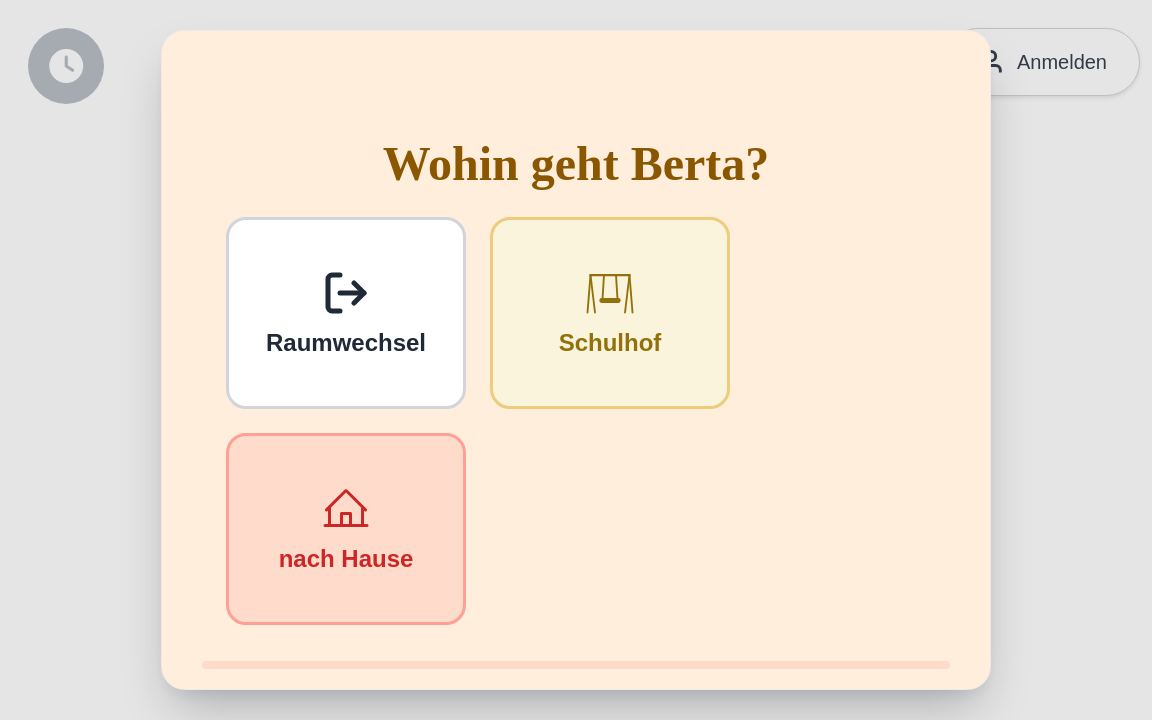
Test: ActivityScanningPage scan timeout notice › shows a refused scan of another child instead of the feedback prompt
Click the button "nach Hause".
click(346, 529)  # box [226, 433, 466, 625]
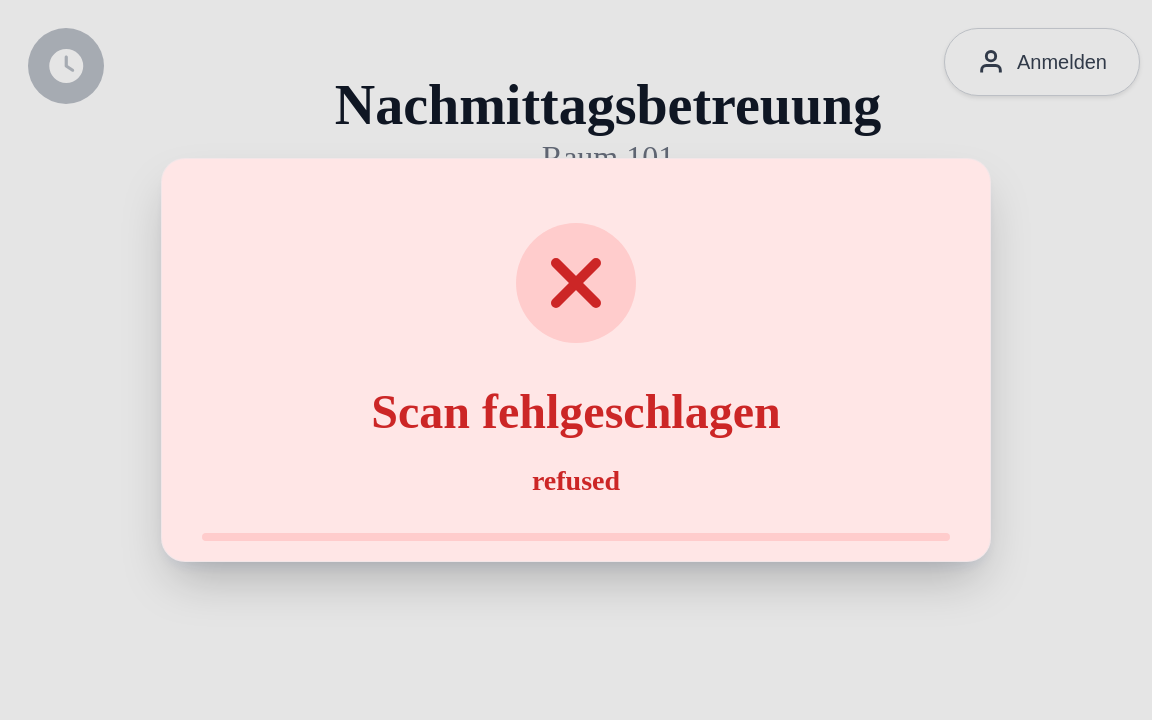
Now the heading "Scan fehlgeschlagen" is shown, box [371, 385, 781, 438]
